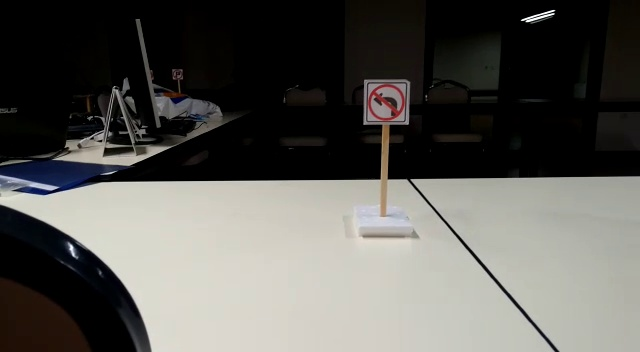sola_donulmez: (367, 83, 408, 122)
